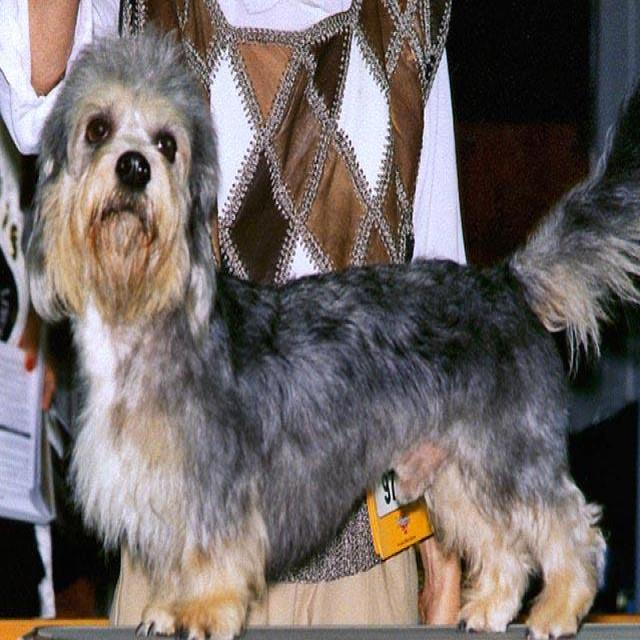dandie_dinmont: (26, 24, 638, 637)
